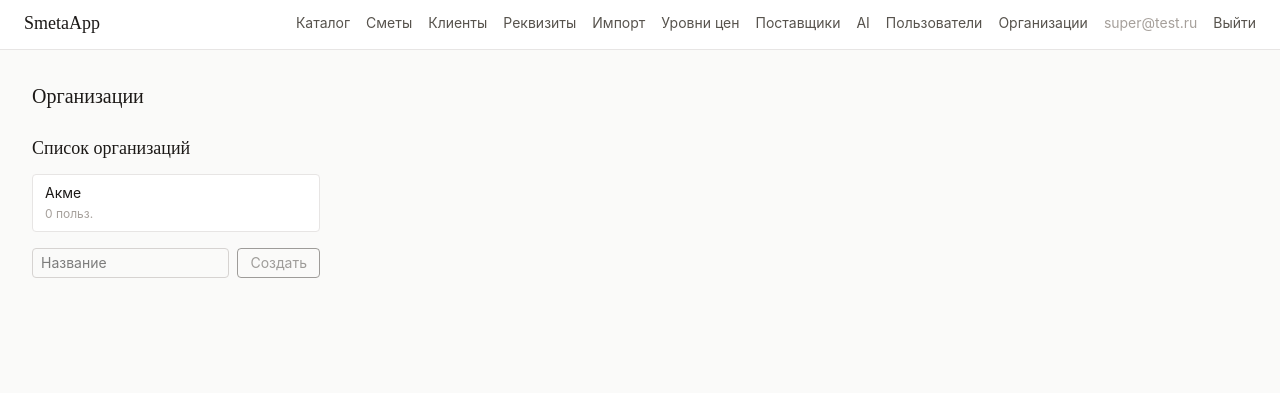
Test: OrgsPage › показывает ссылку-инвайт если email_sent=false
The image size is (1280, 393).
Click the text "Акме" at (63, 192), box [45, 184, 81, 201]
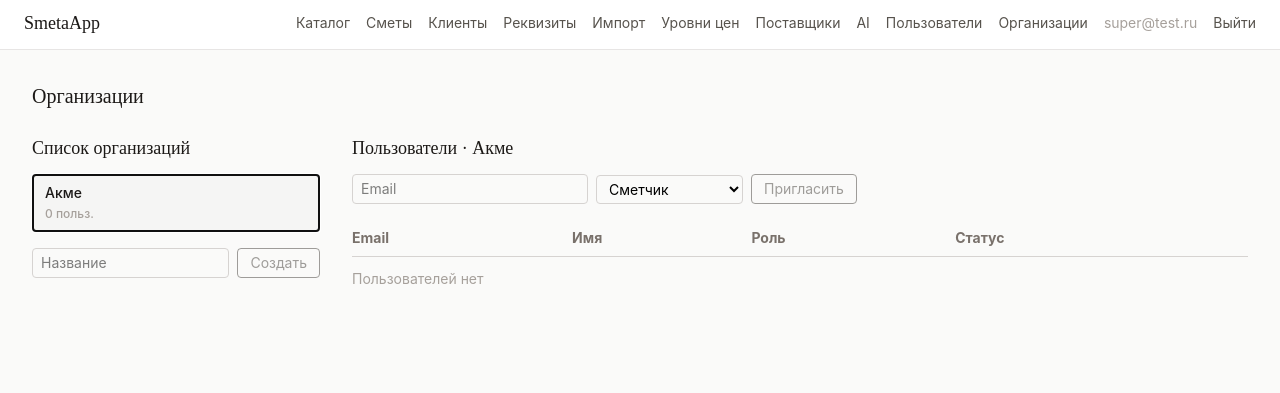
Type "new@test.ru" into the field named "Email для приглашения" at (470, 189), box [352, 174, 588, 204]
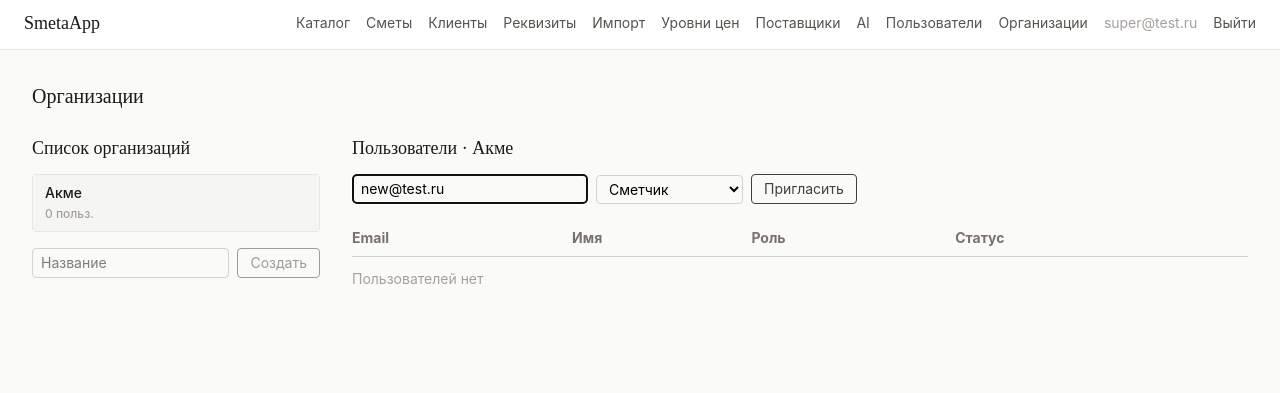
Click the button "Пригласить" at (804, 189), box [751, 174, 857, 204]
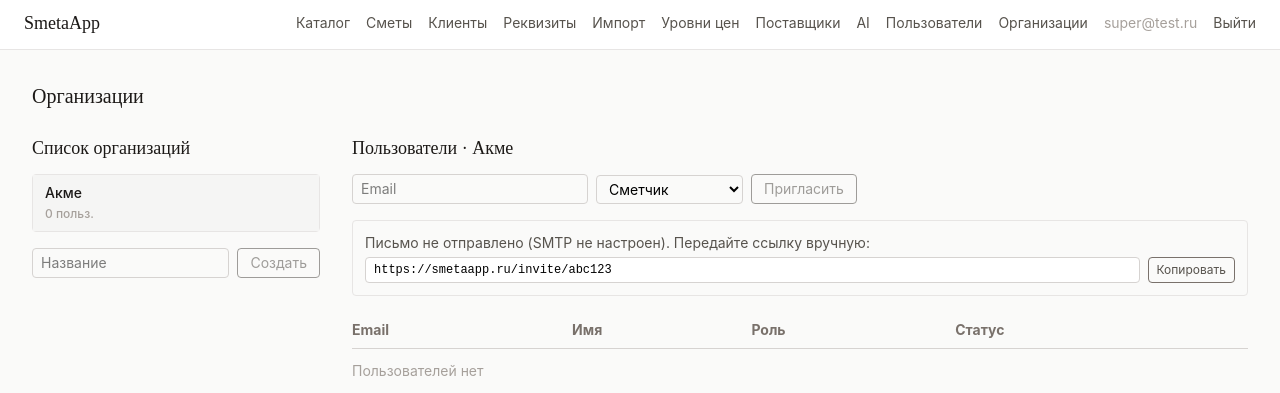
Expected: the text "Передайте ссылку вручную" is shown, [365, 234, 870, 251]
Expected: the text "https://smetaapp.ru/invite/abc123" is shown, [365, 257, 1140, 283]
